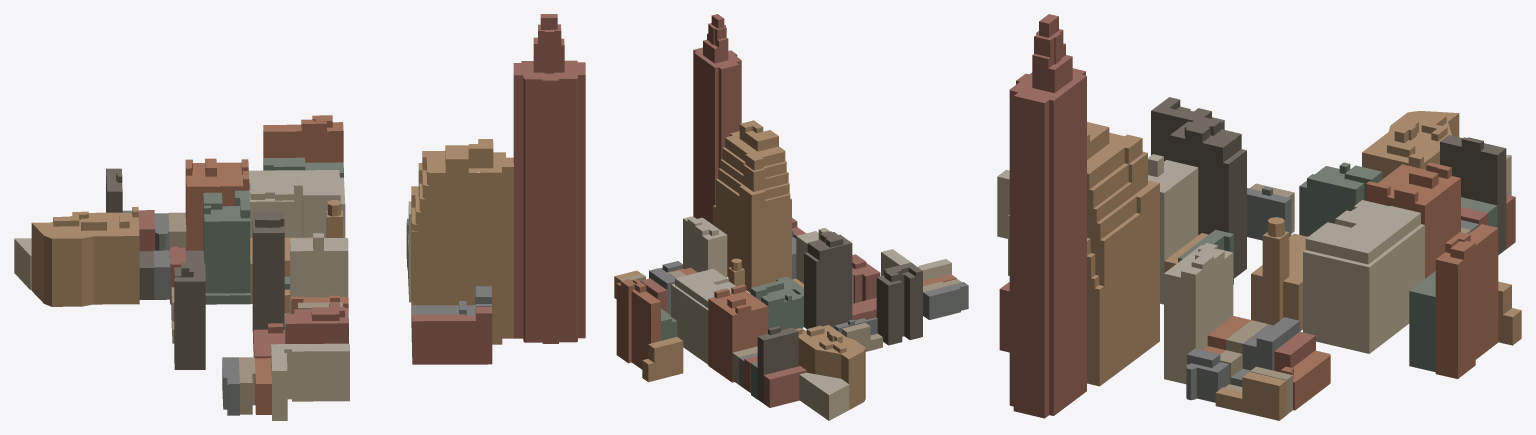
The model's file is tile-4_-9.glb.
The picture shows the model from 3 angles, left to right: view 1: azimuth 30°, elevation 25°; view 2: azimuth 150°, elevation 25°; view 3: azimuth 270°, elevation 25°; orthographic projection. The views are drawn at different scales.
Parts seen in each view (by area): view 1: wall, roof; view 2: wall, roof; view 3: wall, roof.
Part boxes in pixels (x1,y1,x2,y2): wall: (14, 18, 585, 420); roof: (14, 14, 585, 383); wall: (614, 16, 968, 420); roof: (615, 14, 967, 394); wall: (997, 16, 1521, 420); roof: (997, 14, 1521, 398).
Size of the model in its own units: 217 by 169 by 210.
